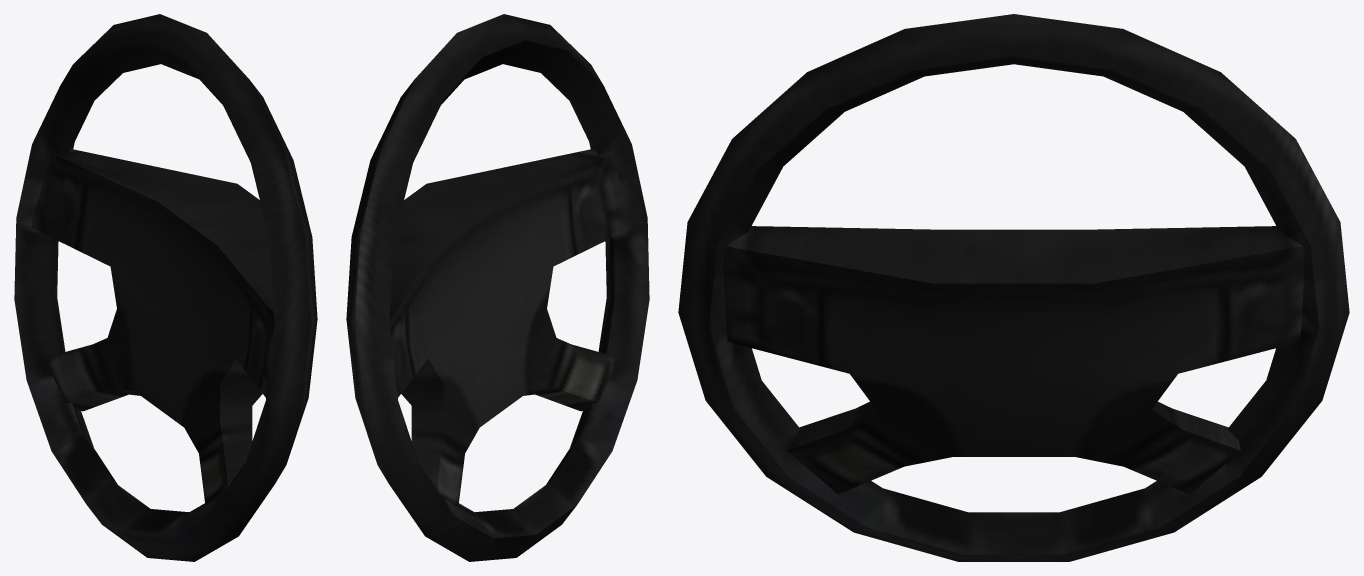
The model's file is gallo99_steering_wheel_ucb_interiors_2_0.002_lev3.glb.
3 views of the same model, side by side, from view 1: azimuth 30°, elevation 25°; view 2: azimuth 150°, elevation 25°; view 3: azimuth 270°, elevation 25° (orthographic). The views are drawn at different scales.
Parts seen in each view (by area): view 1: gallo99_steering_wheel_ucb_interiors_2_0.002_lev3; view 2: gallo99_steering_wheel_ucb_interiors_2_0.002_lev3; view 3: gallo99_steering_wheel_ucb_interiors_2_0.002_lev3.
Part boxes in pixels (x1,y1,x2,y2): gallo99_steering_wheel_ucb_interiors_2_0.002_lev3: [14, 14, 317, 561]; gallo99_steering_wheel_ucb_interiors_2_0.002_lev3: [346, 14, 649, 561]; gallo99_steering_wheel_ucb_interiors_2_0.002_lev3: [678, 14, 1349, 561].
Size of the model in its own units: 0.1246 by 0.357 by 0.3638.
1 material, 1 textured.
